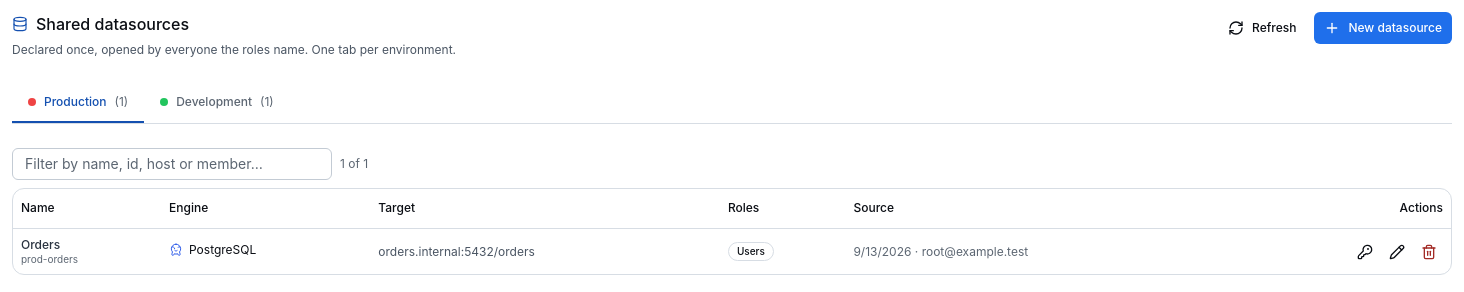
DatasourcesTab › puts each environment on its own tab, production first and open, and marks the seed-file ones read-only
Expected: the text "Users" is shown, [728,242,774,261]
Expected: the text "orders.internal:5432/orders" is shown, [370,228,720,274]
Note: Radix Tabs switch on mouseDown, not click.
Press the mouse on the tab with test id "env-tab-development" at point(217, 103), box [144,84,290,122]
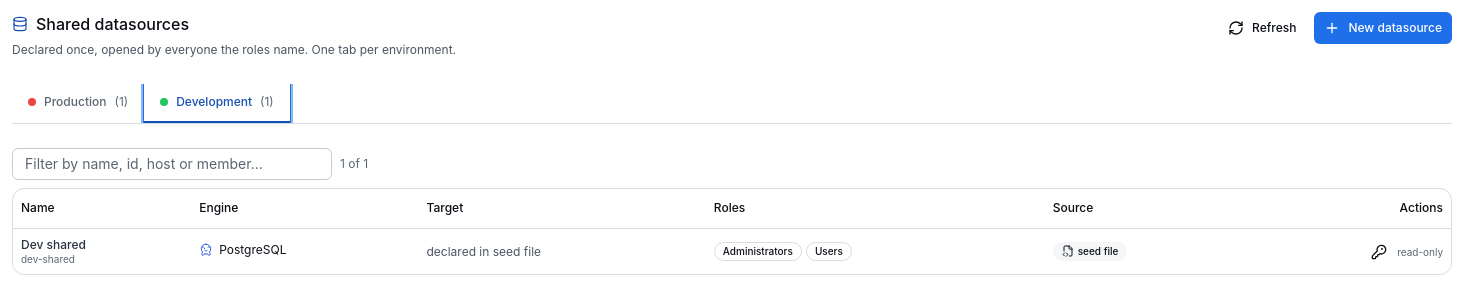
Result: the element with test id "env-group-production" is gone
Result: the text "seed file" is shown at [1053,242,1127,261]
Result: the text "read-only" is shown at [1397,244,1443,259]
